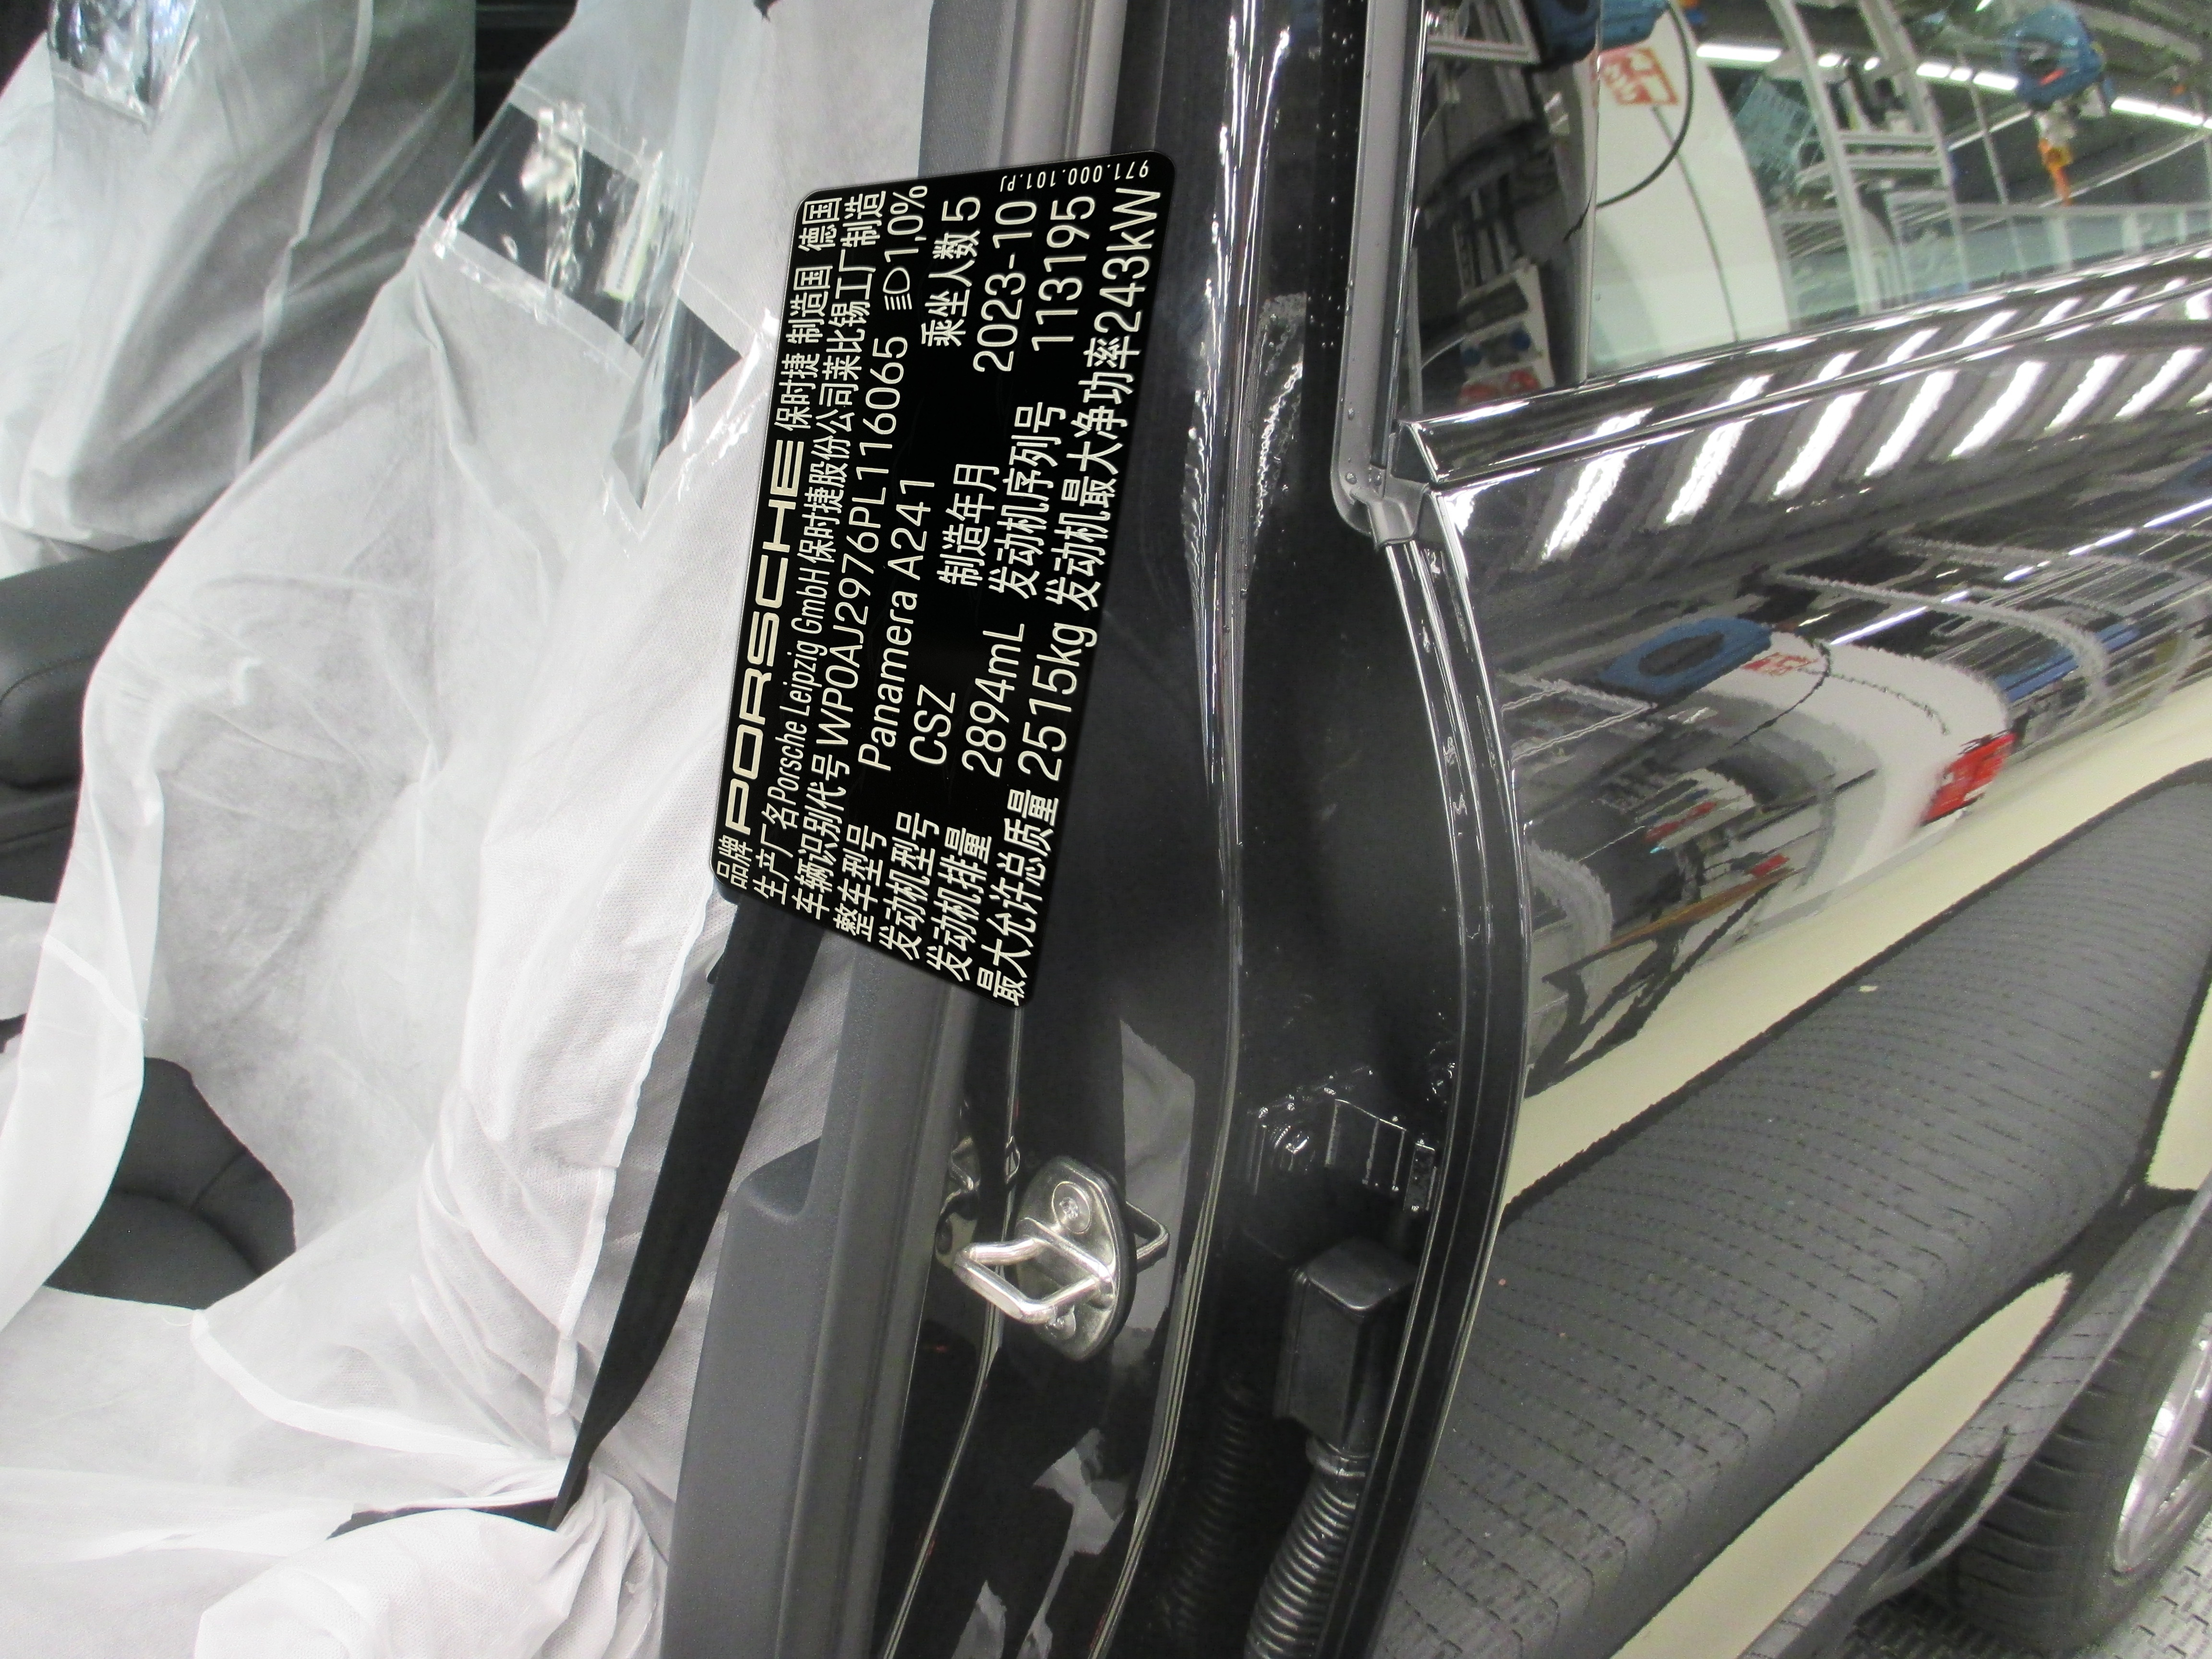Typlabel-China: (711, 150, 1176, 1007)
